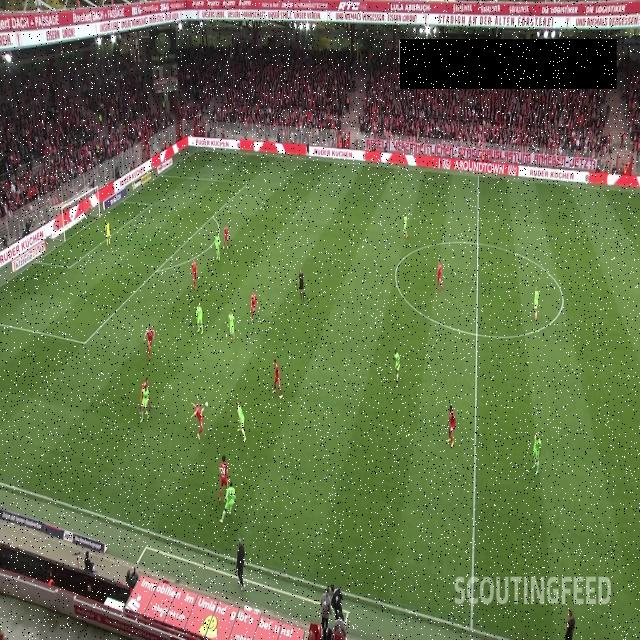Ball: (205, 401, 209, 409)
GoalKeeper: (105, 220, 111, 247)
Referee: (564, 606, 576, 640), (297, 268, 305, 301), (306, 140, 310, 160)
TEAM 1: (190, 401, 207, 440), (139, 376, 153, 414), (272, 359, 284, 401), (219, 454, 229, 501), (446, 404, 456, 449), (143, 326, 155, 358), (249, 290, 259, 322), (436, 258, 444, 291), (192, 260, 198, 291), (222, 224, 229, 250)
TEAM 2: (220, 483, 237, 524), (236, 401, 247, 442), (140, 385, 150, 424), (532, 433, 540, 474), (393, 348, 401, 386), (195, 304, 203, 334), (228, 310, 235, 342), (533, 286, 539, 320), (214, 234, 220, 262), (403, 211, 409, 238)
